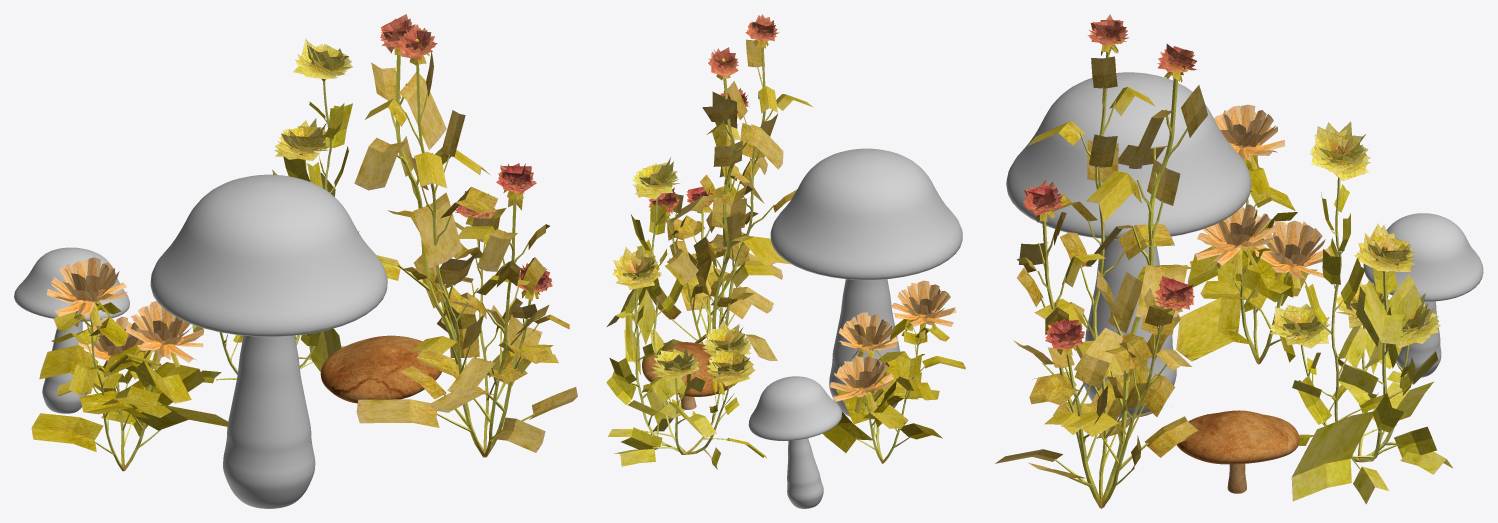
The model's file is pflanzen.fbx.
3 renders of one model, left to right at view 1: azimuth 30°, elevation 25°; view 2: azimuth 150°, elevation 25°; view 3: azimuth 270°, elevation 25°, orthographic. The views are drawn at different scales.
Parts seen in each view (by area): view 1: pCylinder1, Red_Rose, Orange_S, Yellow_F, Shiitake_Mesh.001, pasted__pCylinder1 group2; view 2: pCylinder1, Red_Rose, Yellow_F, Orange_S, pasted__pCylinder1 group2, Shiitake_Mesh.001; view 3: Red_Rose, Yellow_F, pCylinder1, Orange_S, pasted__pCylinder1 group2, Shiitake_Mesh.001.
Part boxes in pixels (left/top/right/bottom): pCylinder1: left=150, top=174, right=387, bottom=508; Red_Rose: left=354, top=14, right=577, bottom=457; Orange_S: left=31, top=257, right=227, bottom=471; Yellow_F: left=192, top=39, right=359, bottom=383; Shiitake_Mesh.001: left=320, top=335, right=441, bottom=403; pasted__pCylinder1 group2: left=14, top=247, right=129, bottom=413; pCylinder1: left=770, top=148, right=962, bottom=419; Red_Rose: left=648, top=14, right=812, bottom=360; Yellow_F: left=606, top=157, right=766, bottom=469; Orange_S: left=822, top=280, right=965, bottom=463; pasted__pCylinder1 group2: left=748, top=376, right=842, bottom=508; Shiitake_Mesh.001: left=642, top=341, right=731, bottom=409; Red_Rose: left=995, top=14, right=1207, bottom=508; Yellow_F: left=1269, top=121, right=1452, bottom=504; pCylinder1: left=1006, top=72, right=1251, bottom=417; Orange_S: left=1176, top=104, right=1331, bottom=364; pasted__pCylinder1 group2: left=1363, top=213, right=1483, bottom=377; Shiitake_Mesh.001: left=1177, top=410, right=1299, bottom=493.
Size of the model in its own units: 1793 by 1790 by 1664.
